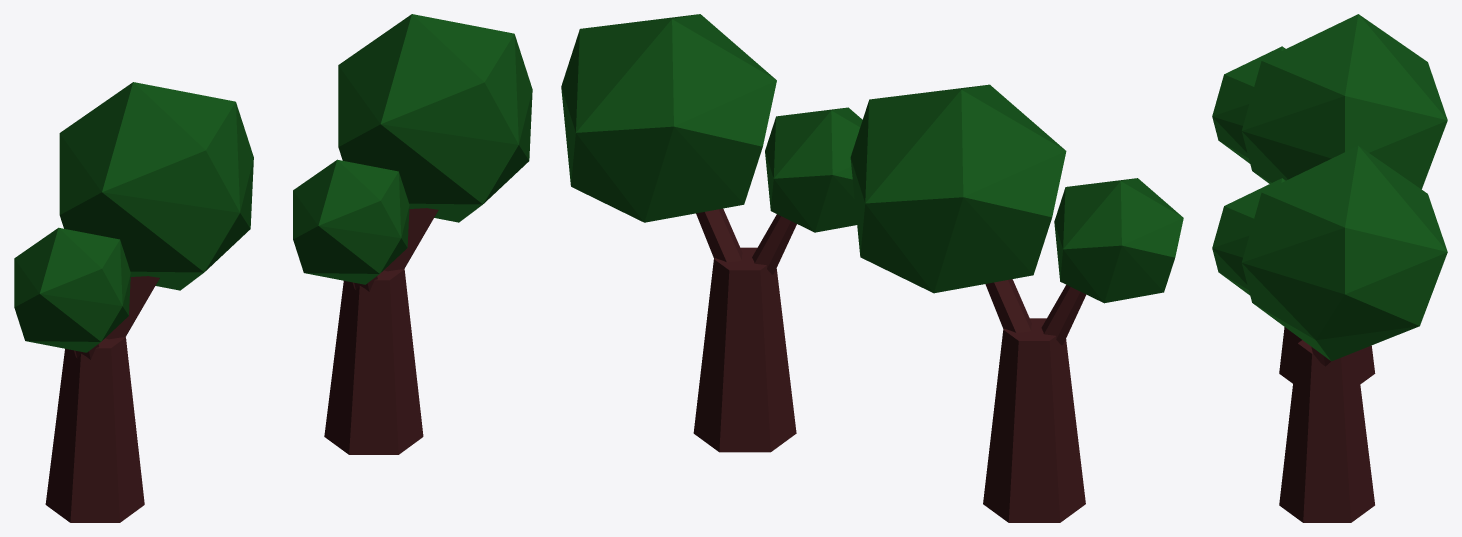
The model's file is twotrees.obj.
3 views of the same model, side by side, from view 1: azimuth 30°, elevation 25°; view 2: azimuth 150°, elevation 25°; view 3: azimuth 270°, elevation 25° (orthographic). The views are drawn at different scales.
Parts seen in each view (by area): view 1: Icosphere; view 2: Icosphere; view 3: Icosphere.
Boxes of the visible parts, x1,y1,x2,y2 form: Icosphere: (14, 14, 532, 522); Icosphere: (561, 14, 1183, 522); Icosphere: (1212, 14, 1447, 522).
Size of the model in its own units: 2.02 by 1.39 by 0.7686.
